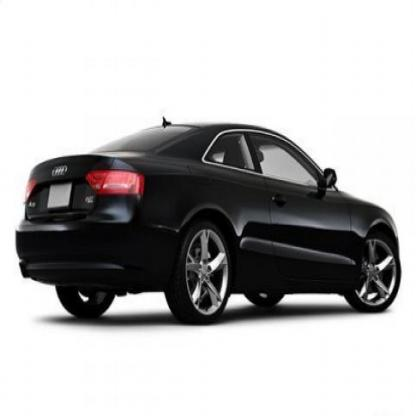Vehicle: (17, 116, 402, 324)
